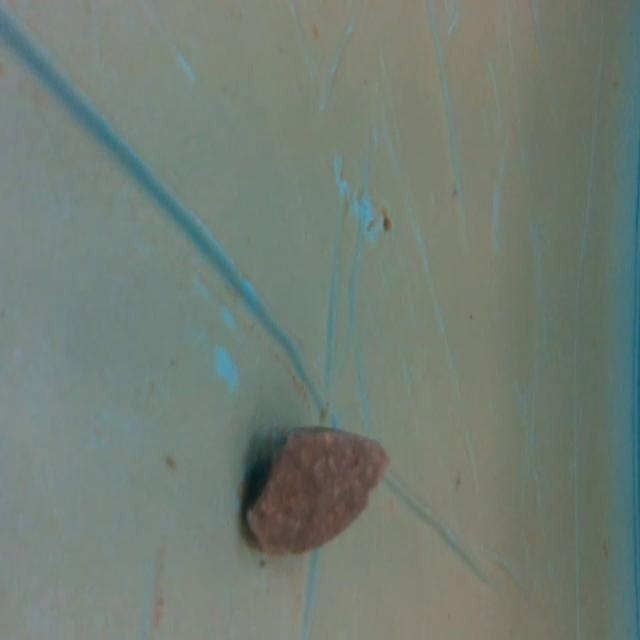rock: (243, 412, 395, 572)
